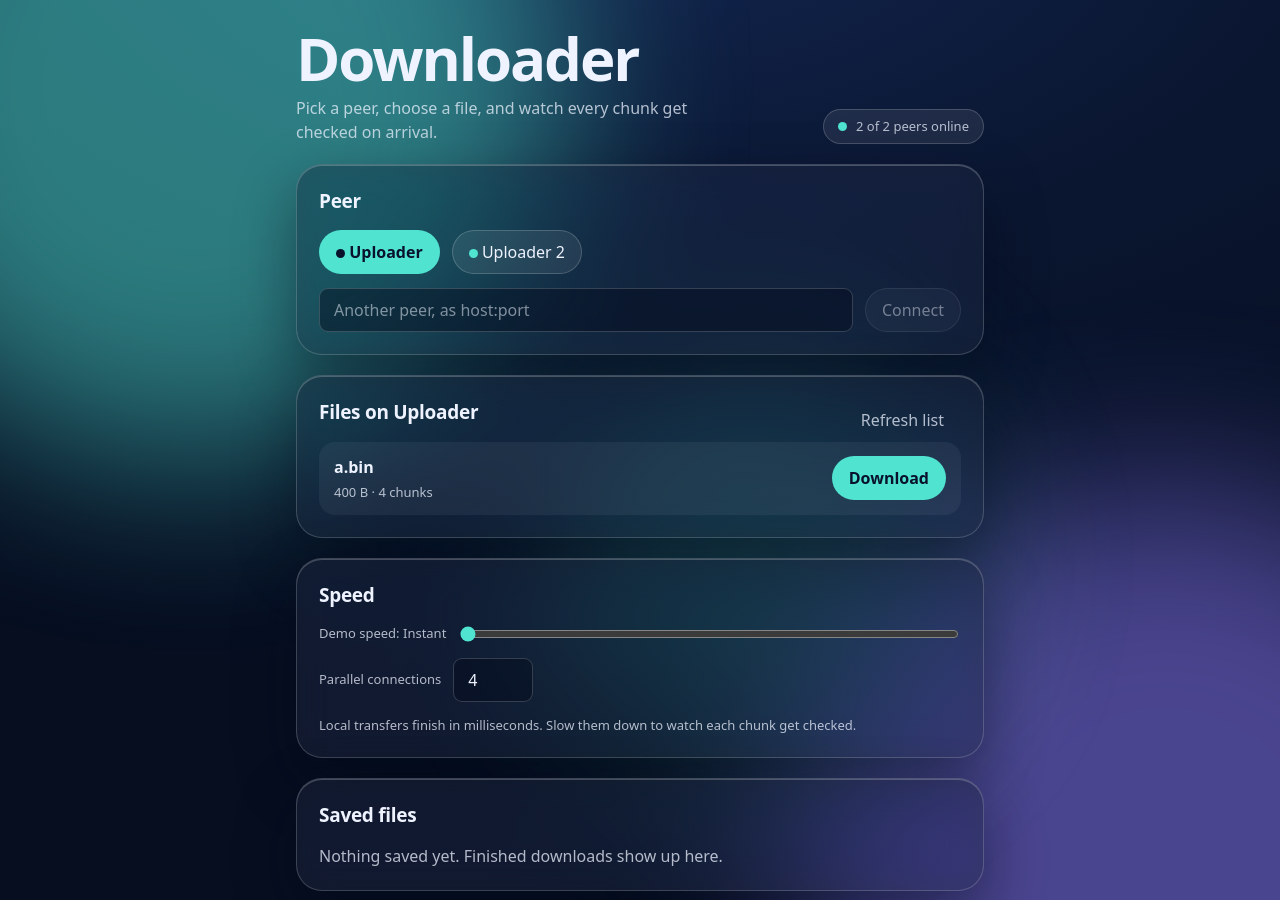
Scenario: Downloader page › counts a failed hash check, then shows the chunk verified after the retry
The image size is (1280, 900).
Click the button with aria-label "Download a.bin" at (889, 478), box [832,456,946,500]
(page scrolled)
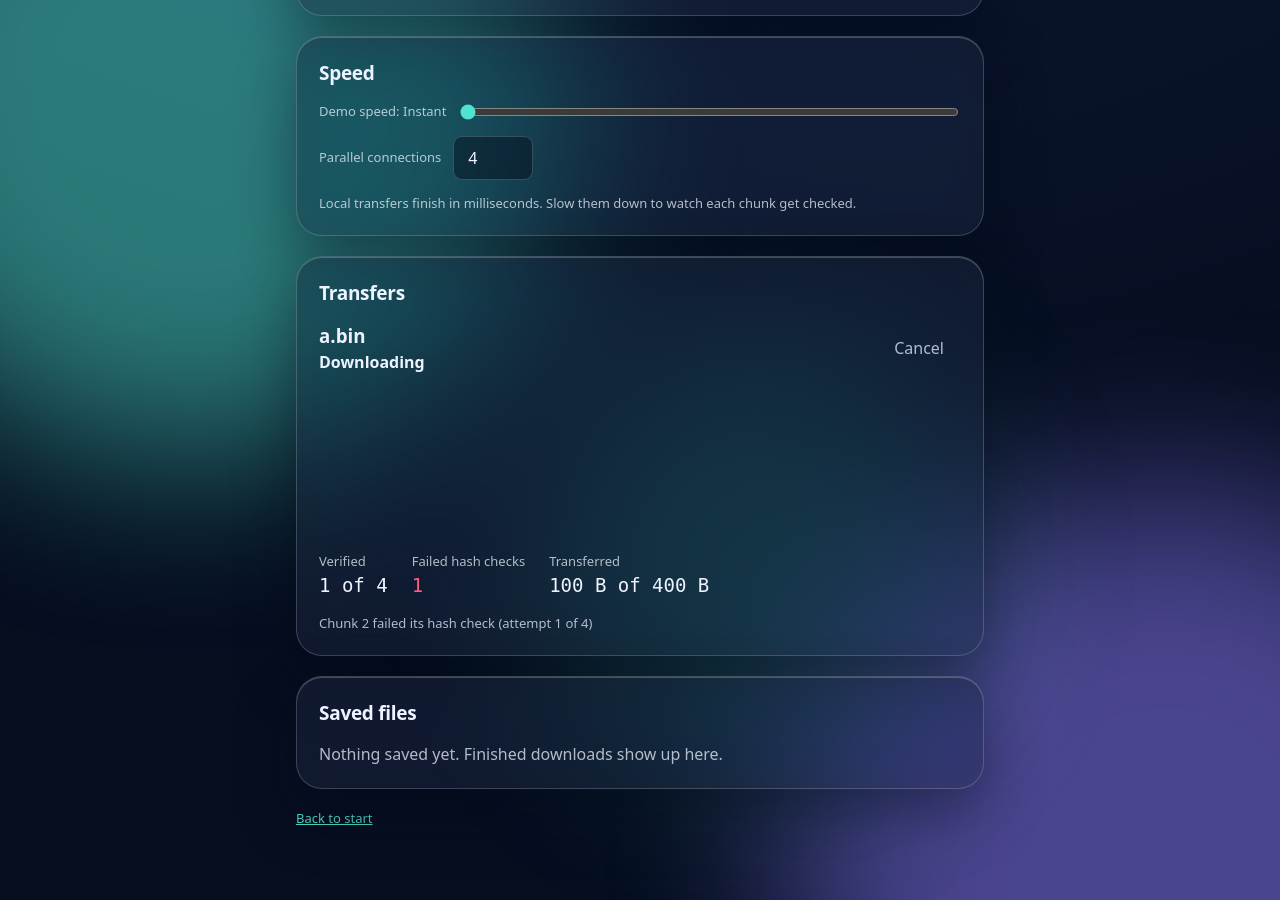
expect the text "Chunk 2 failed its hash check (attempt 1 of 4)" is shown: met, box [319,614,592,632]
expect the picture named "a.bin: 1 of 4 chunks verified" is shown: met, box [319,388,619,538]
